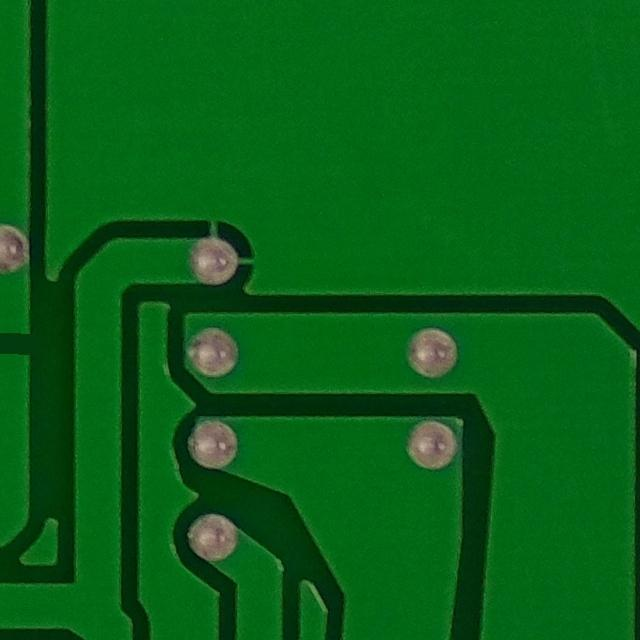open_circuit: (0, 315, 42, 371)
